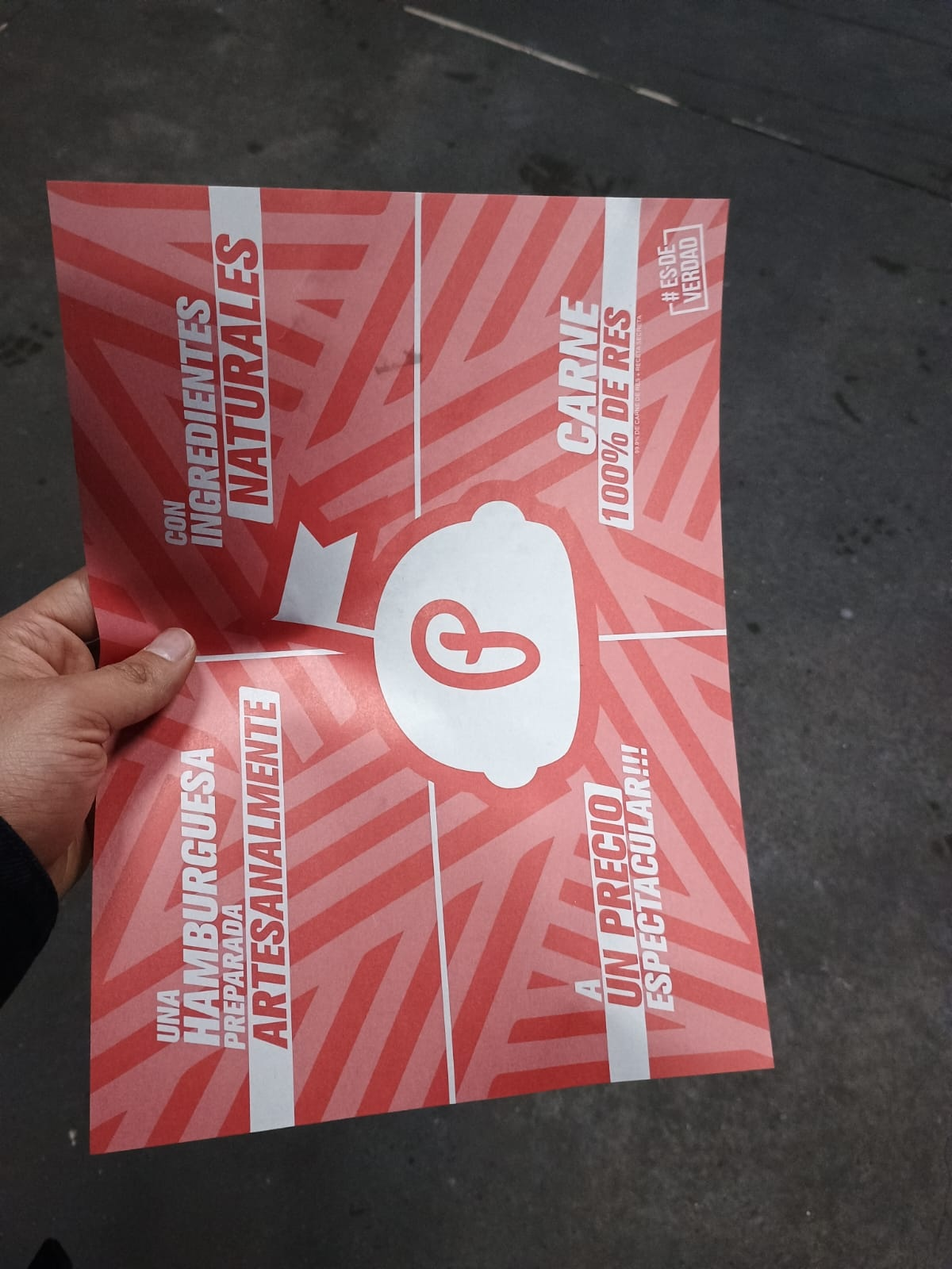Papel: (46, 173, 779, 1154)
